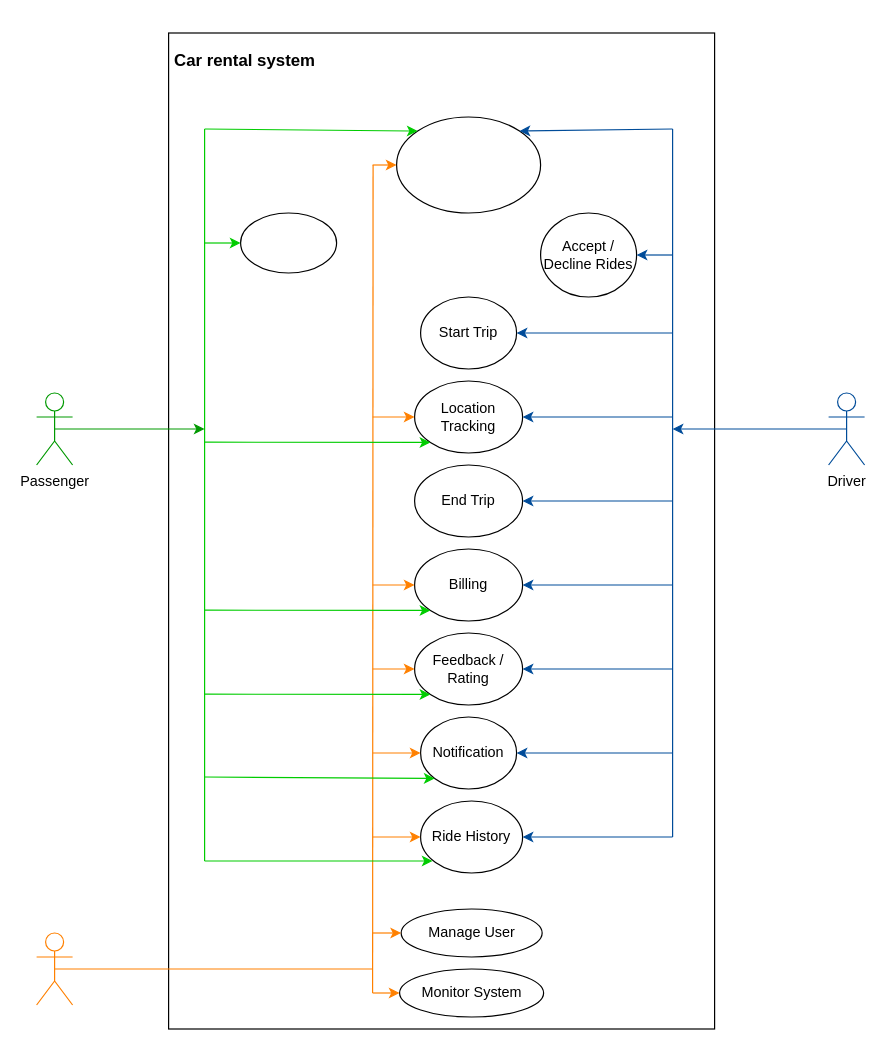
The diagram is 887 pixels wide and 1060 high, and some of its shapes have lost their labels. The box of each missing label's shape, as (x1, y1, x2, y2) in pixels:
Admin: (35, 932, 73, 1005)
Register / Login: (395, 116, 541, 213)
Request Rides: (239, 212, 337, 273)
